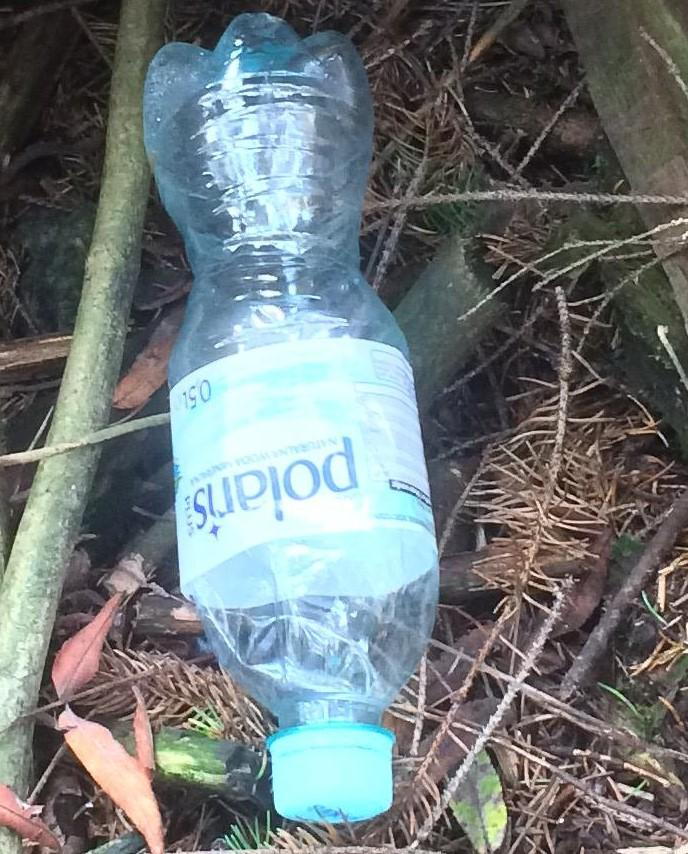Plastic: (136, 7, 444, 826)
